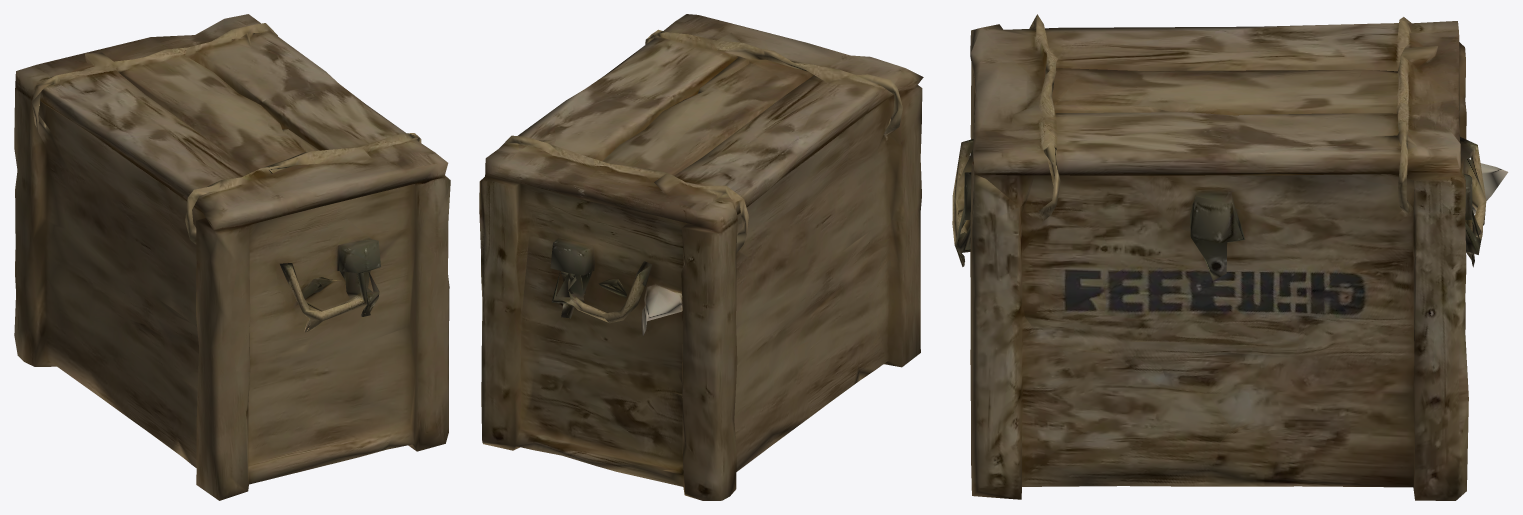
The model's file is crate.glb.
The picture shows the model from 3 angles, left to right: view 1: azimuth 30°, elevation 25°; view 2: azimuth 150°, elevation 25°; view 3: azimuth 270°, elevation 25°; orthographic projection. The views are drawn at different scales.
Visible parts, largest first — view 1: tripo_node_4c933f51-ab19-4042-a061-2773528c3b90; view 2: tripo_node_4c933f51-ab19-4042-a061-2773528c3b90; view 3: tripo_node_4c933f51-ab19-4042-a061-2773528c3b90.
Boxes of the visible parts, x1=… form: tripo_node_4c933f51-ab19-4042-a061-2773528c3b90: x1=14, y1=14, x2=450, y2=500; tripo_node_4c933f51-ab19-4042-a061-2773528c3b90: x1=479, y1=14, x2=923, y2=500; tripo_node_4c933f51-ab19-4042-a061-2773528c3b90: x1=952, y1=14, x2=1508, y2=500.
Bounding box in the file's own units: 0.6241 × 0.7207 × 1.
Materials: 1 (1 with a texture image).
